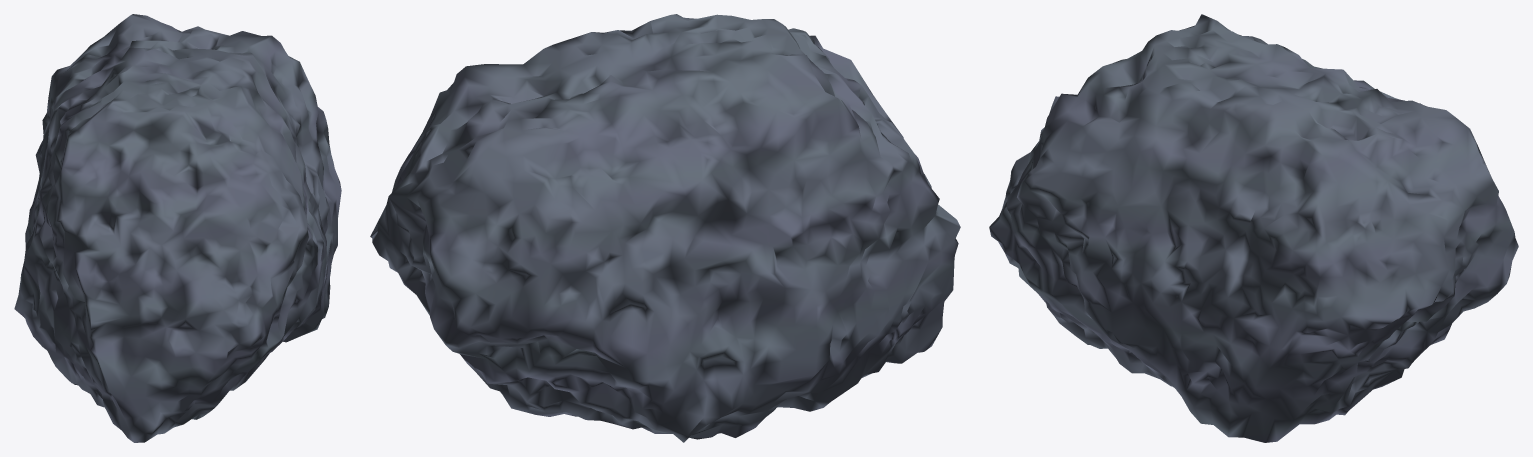
Rendered from OBJ_MoonRock.fbx.
3 renders of one model, left to right at view 1: azimuth 30°, elevation 25°; view 2: azimuth 150°, elevation 25°; view 3: azimuth 270°, elevation 25°, orthographic. The views are drawn at different scales.
Parts seen in each view (by area): view 1: OBJ_MoonRock; view 2: OBJ_MoonRock; view 3: OBJ_MoonRock.
Part boxes in pixels (x1,y1,x2,y2): OBJ_MoonRock: (14, 14, 341, 442); OBJ_MoonRock: (370, 14, 960, 442); OBJ_MoonRock: (989, 14, 1518, 442).
Size of the model in its own units: 43.37 by 33.48 by 52.11.
